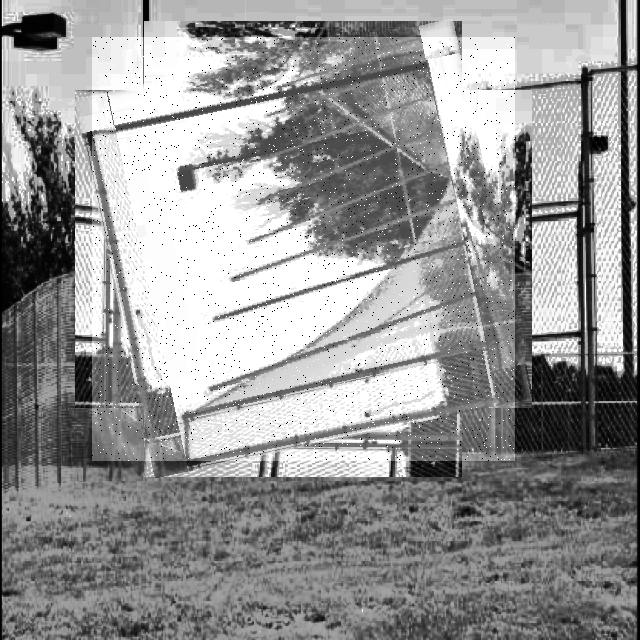anomaly-fence: (92, 37, 515, 461)
